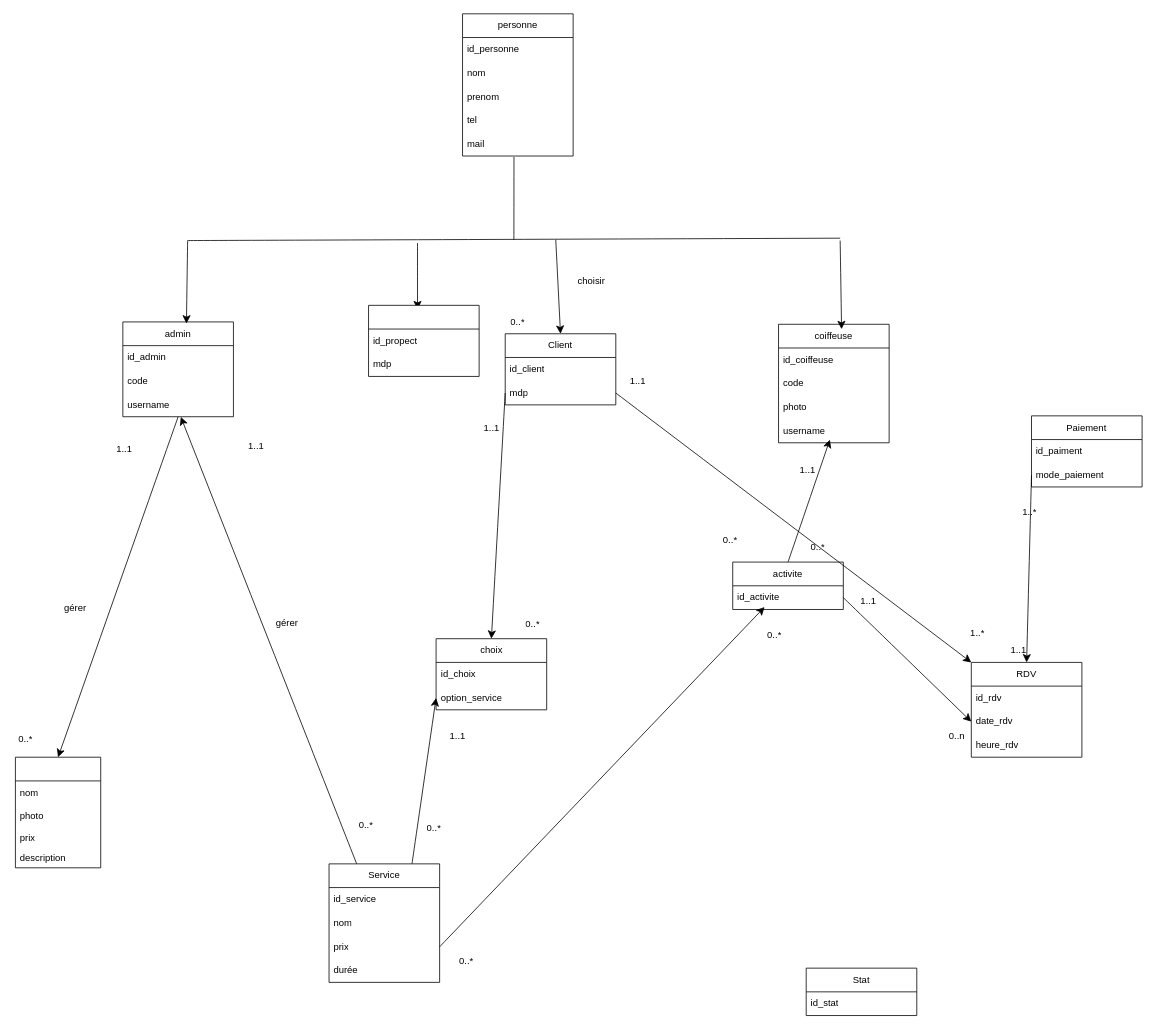
The diagram is 1156 pixels wide and 1029 high, and some of its shapes have lost their labels. Each missing label, with the box of its shape:
modèle: (15, 756, 101, 868)
prospect: (368, 305, 479, 376)
